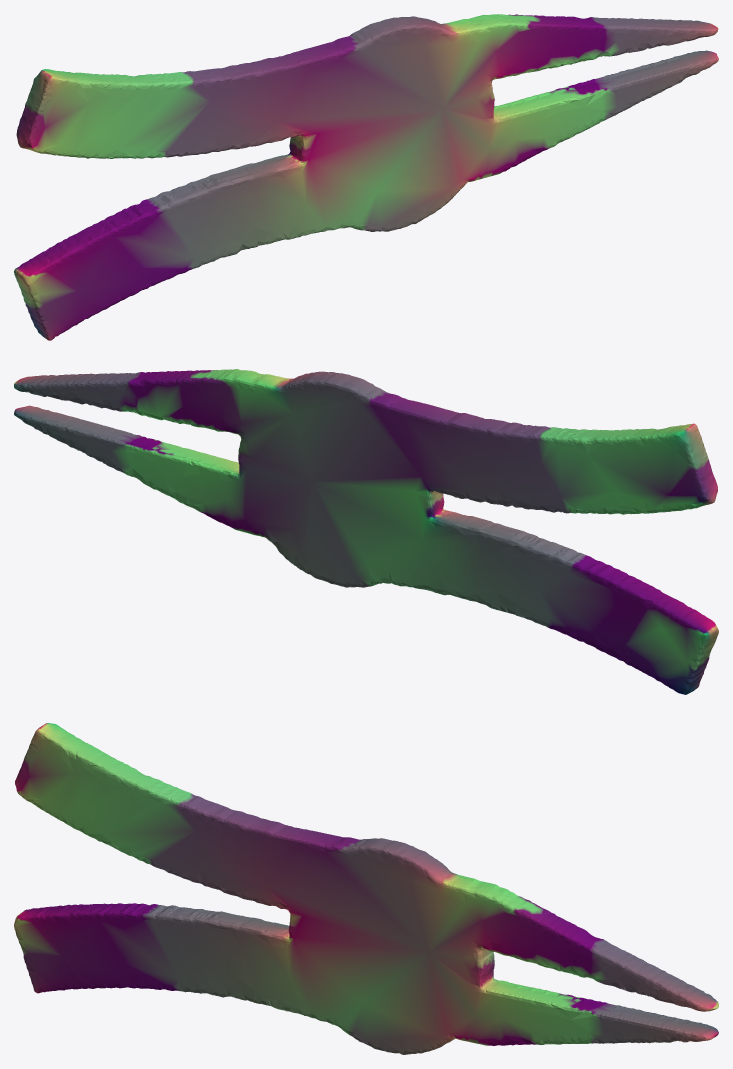
File: scissor-7.off.obj
3 renders of one model, top to bottom at view 1: azimuth 30°, elevation 25°; view 2: azimuth 150°, elevation 25°; view 3: azimuth 330°, elevation 25°, orthographic.
Size of the model in its own units: 1.6 by 0.577 by 0.0567.
